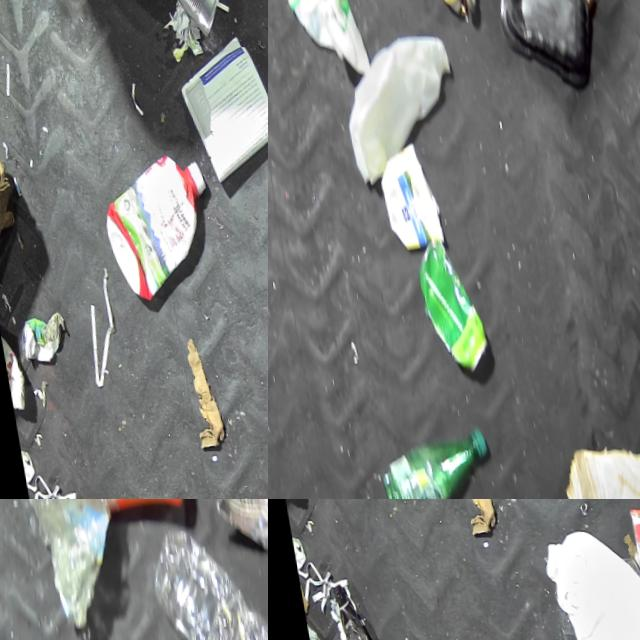can: (401, 234, 483, 374), (192, 499, 268, 556), (153, 0, 233, 48), (616, 499, 640, 595), (426, 0, 480, 23)
milk_jug: (328, 24, 469, 187), (526, 522, 640, 640)
plastic_bottle: (138, 511, 268, 640), (12, 499, 124, 629), (359, 416, 493, 499)
